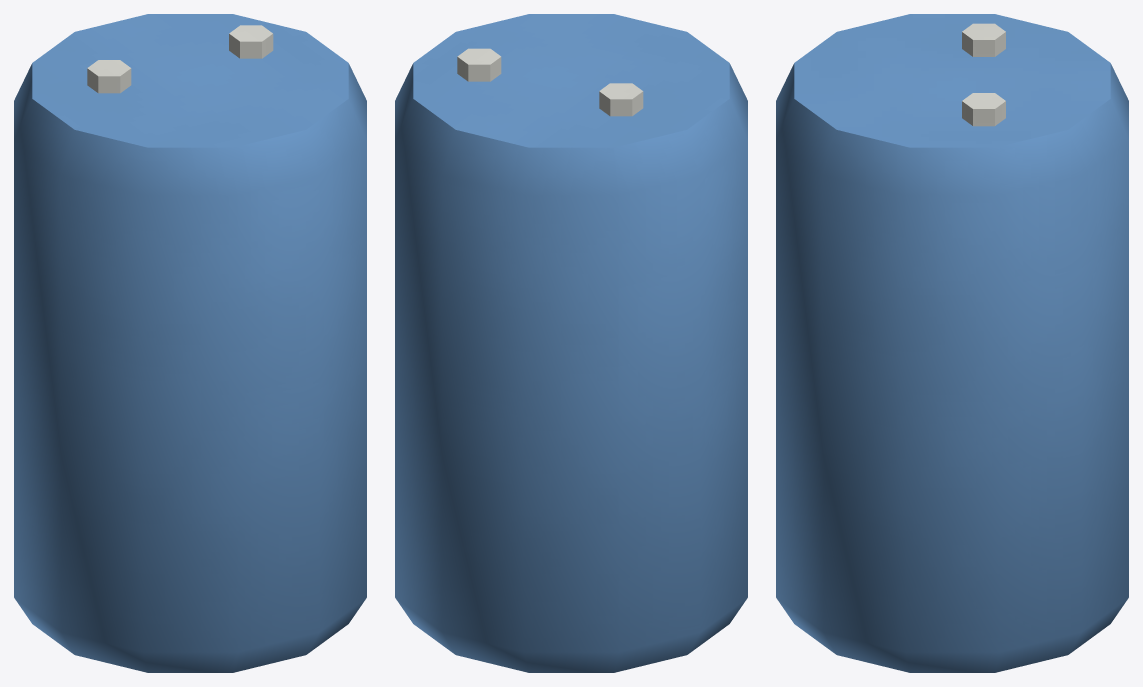
The model's file is tambor_plastico.glb.
The picture shows the model from 3 angles, left to right: view 1: azimuth 30°, elevation 25°; view 2: azimuth 150°, elevation 25°; view 3: azimuth 270°, elevation 25°; orthographic projection.
Visible parts, largest first — view 1: Inteiro; view 2: Inteiro; view 3: Inteiro.
Part boxes in pixels (<box>): Inteiro: <box>14,14,366,672</box>; Inteiro: <box>395,14,747,672</box>; Inteiro: <box>776,14,1128,672</box>.
Bounding box in the file's own units: 0.5602 × 0.95 × 0.5602.
1 material, 1 textured.
